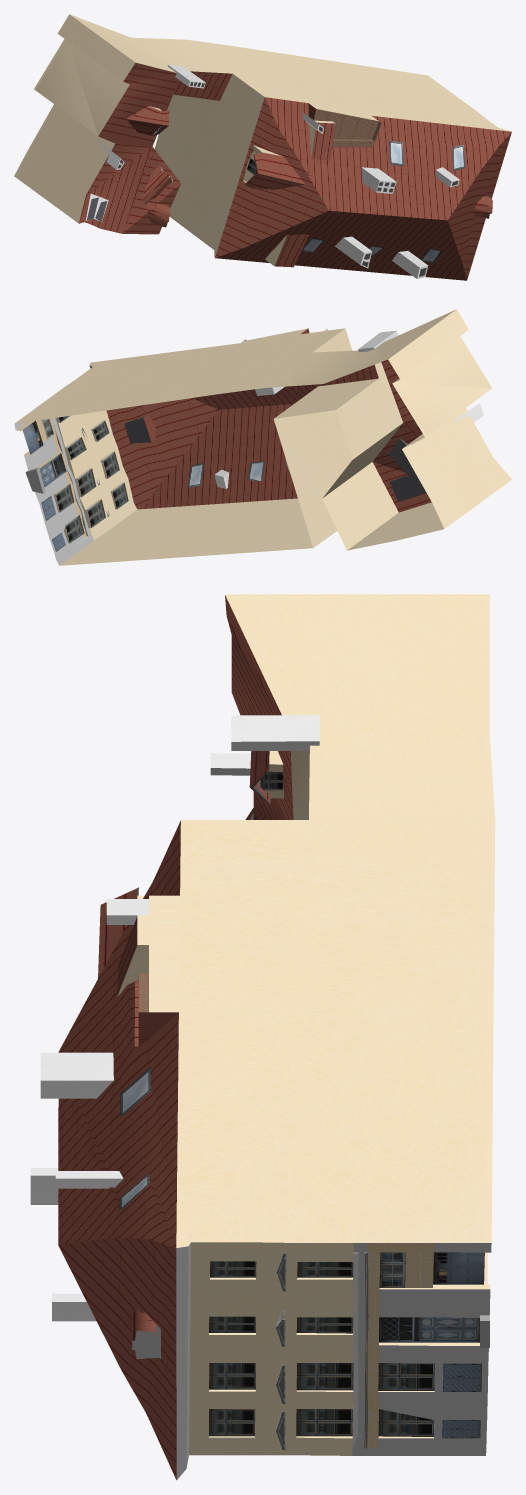
The model's file is Pikk_57-origo.obj.
3 renders of one model, top to bottom at view 1: azimuth 30°, elevation 25°; view 2: azimuth 150°, elevation 25°; view 3: azimuth 270°, elevation 25°, orthographic. The views are drawn at different scales.
Visible parts, largest first — view 1: Pikk_57; view 2: Pikk_57; view 3: Pikk_57.
Part boxes in pixels (bbox=[...]): Pikk_57: bbox=[14, 14, 511, 280]; Pikk_57: bbox=[14, 309, 511, 565]; Pikk_57: bbox=[30, 594, 495, 1480].
Size of the model in its own units: 39.69 by 26 by 19.05.
